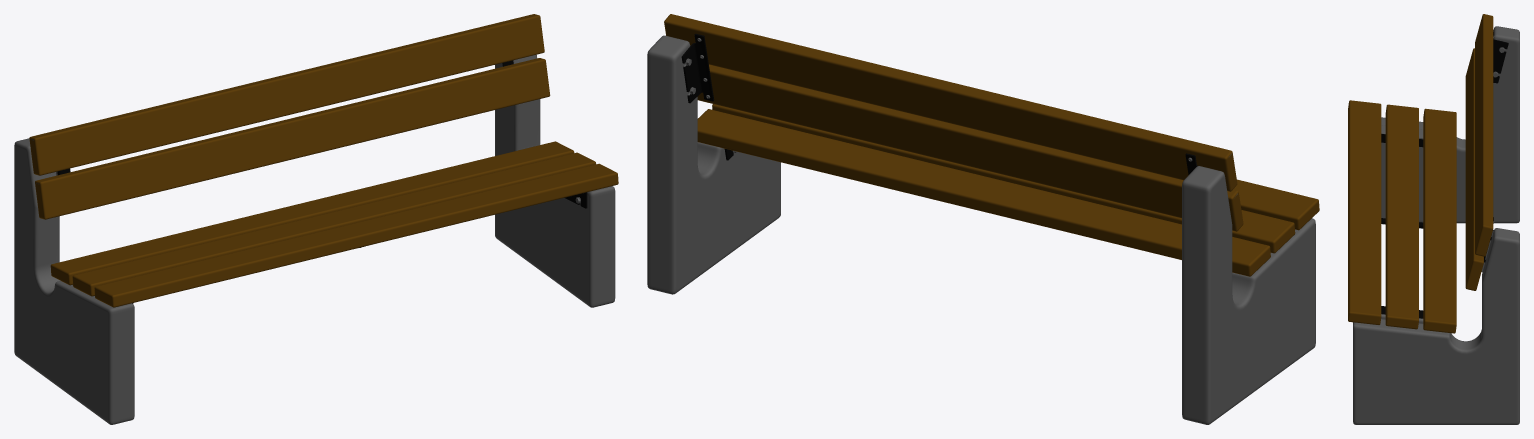
Rendered from Bench#1.fbx.
3 renders of one model, left to right at view 1: azimuth 30°, elevation 25°; view 2: azimuth 150°, elevation 25°; view 3: azimuth 270°, elevation 25°, orthographic. The views are drawn at different scales.
Parts seen in each view (by area): view 1: Burri_Maro_mRL1; view 2: Burri_Maro_mRL1; view 3: Burri_Maro_mRL1.
Part boxes in pixels (bbox=[...]): Burri_Maro_mRL1: bbox=[14, 14, 618, 424]; Burri_Maro_mRL1: bbox=[647, 14, 1319, 424]; Burri_Maro_mRL1: bbox=[1348, 14, 1519, 424].
Bounding box in the file's own units: 6.83 × 3 × 2.34.
